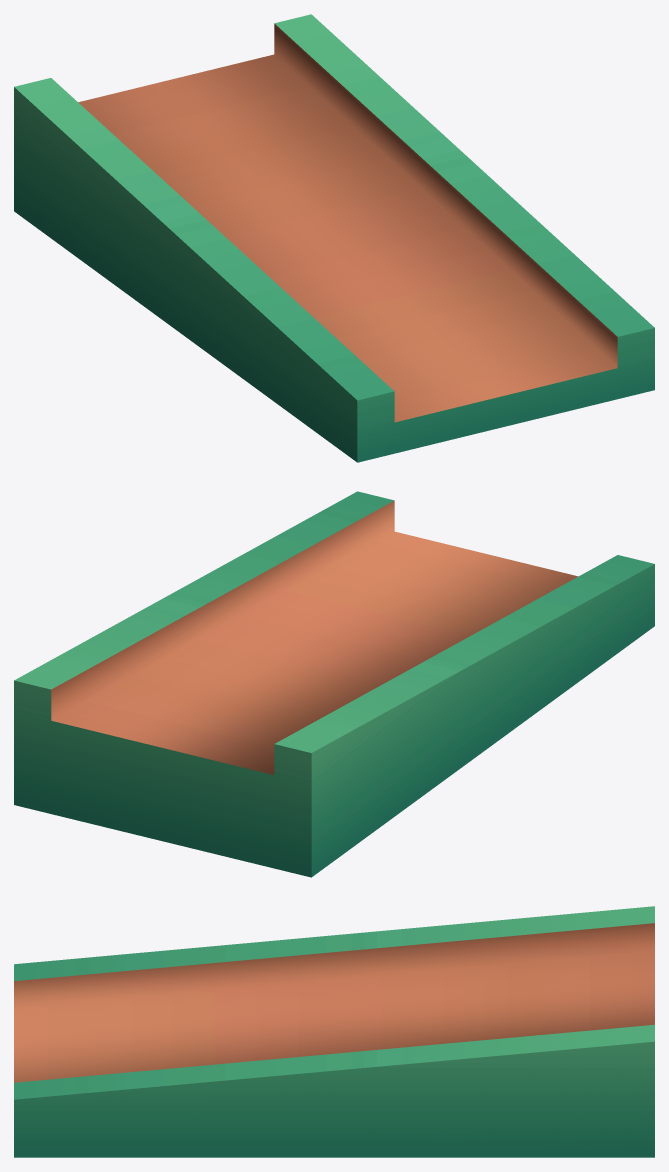
Rendered from kenney-tower-defense-tile-straight-slope-large.glb.
3 renders of one model, top to bottom at view 1: azimuth 30°, elevation 25°; view 2: azimuth 150°, elevation 25°; view 3: azimuth 270°, elevation 25°, orthographic. The views are drawn at different scales.
Visible parts, largest first — view 1: tile-straight-slope-large; view 2: tile-straight-slope-large; view 3: tile-straight-slope-large.
Part boxes in pixels (<box>): tile-straight-slope-large: <box>14,14,654,462</box>; tile-straight-slope-large: <box>14,491,654,877</box>; tile-straight-slope-large: <box>14,906,654,1157</box>.
Size of the model in its own units: 1 by 0.3999 by 2.
Materials: 1 (1 with a texture image).
